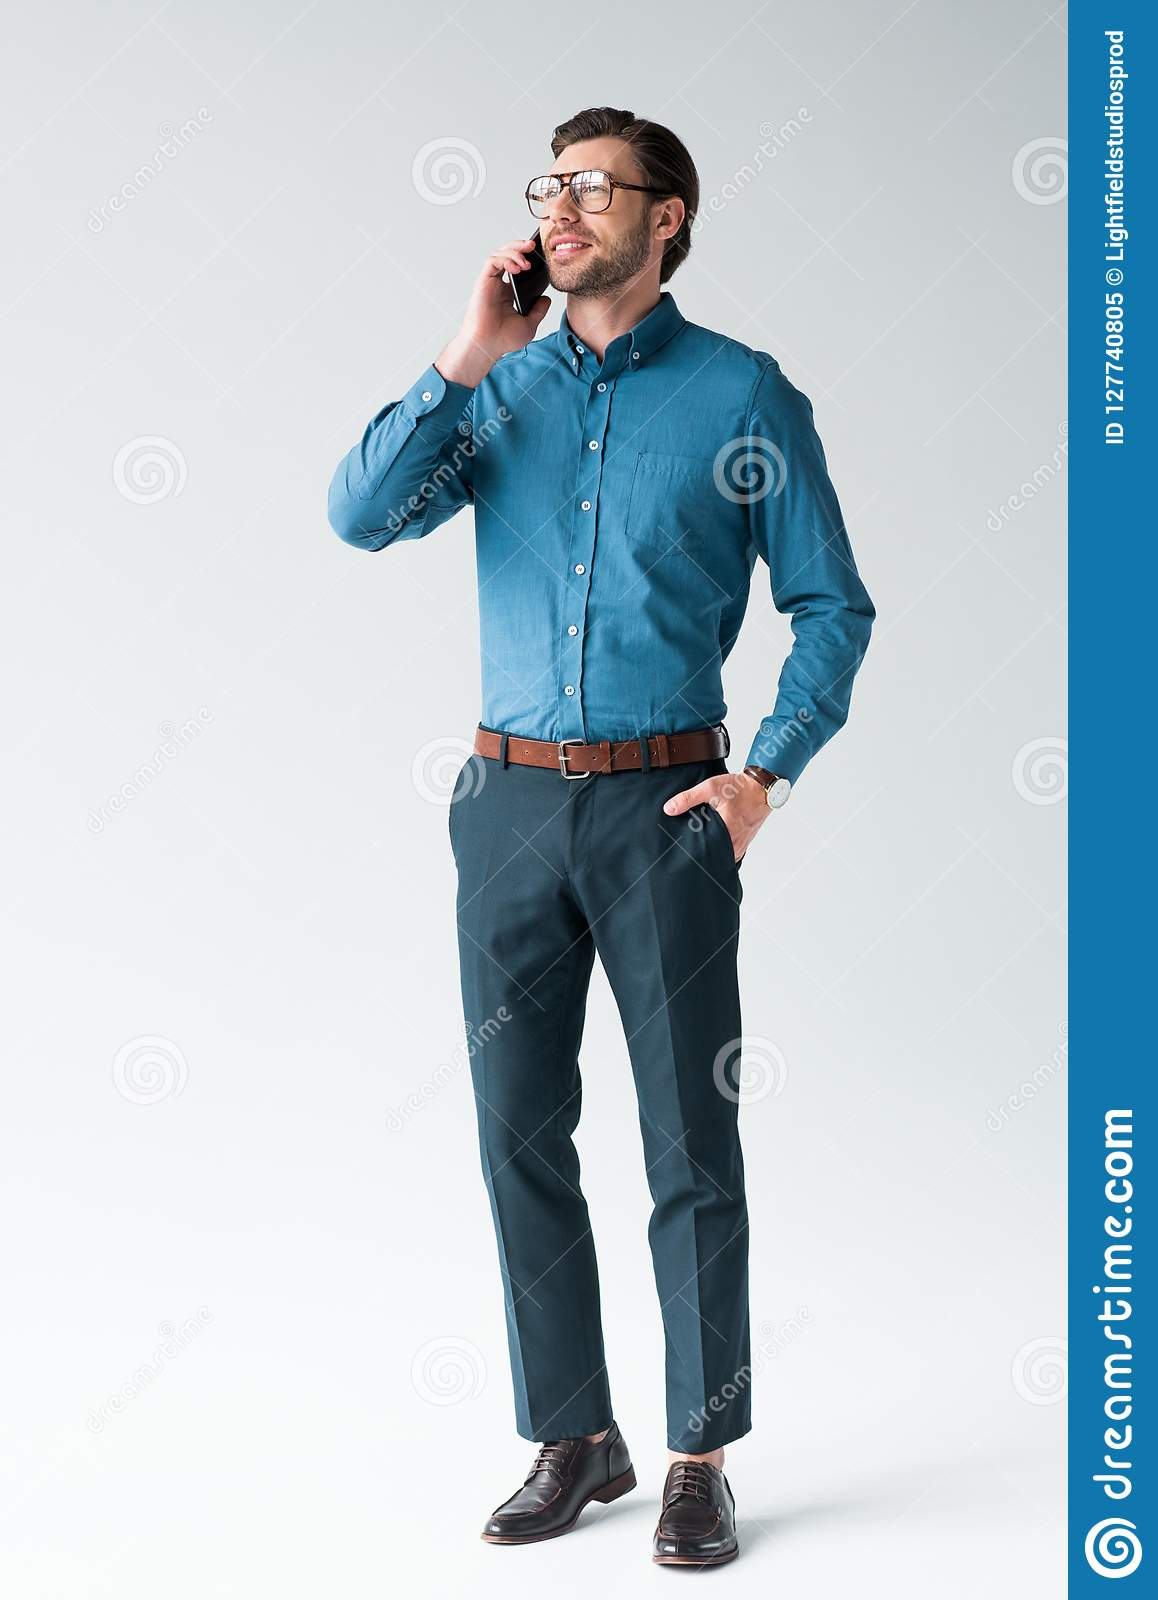phone: (509, 225, 549, 318)
talk: (460, 165, 631, 366)
